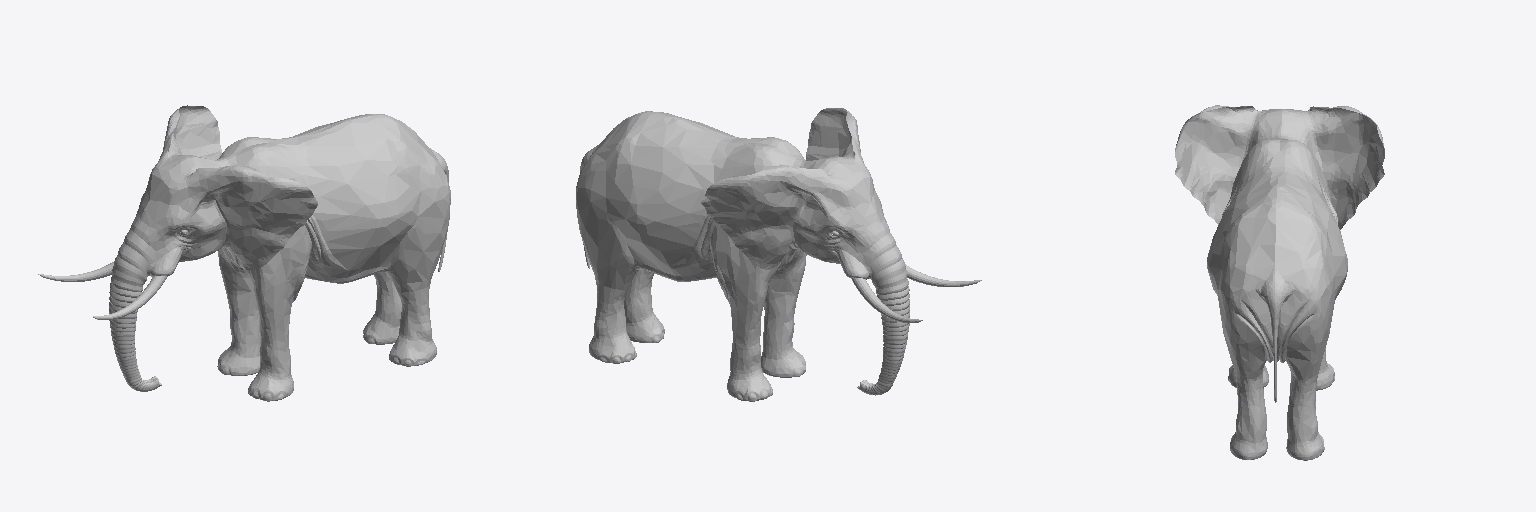
The model's file is elephant.obj.
3 views of the same model, side by side, from view 1: azimuth 30°, elevation 25°; view 2: azimuth 150°, elevation 25°; view 3: azimuth 270°, elevation 25° (orthographic).
Bounding box in the file's own units: 8.95 × 5.66 × 4.31.